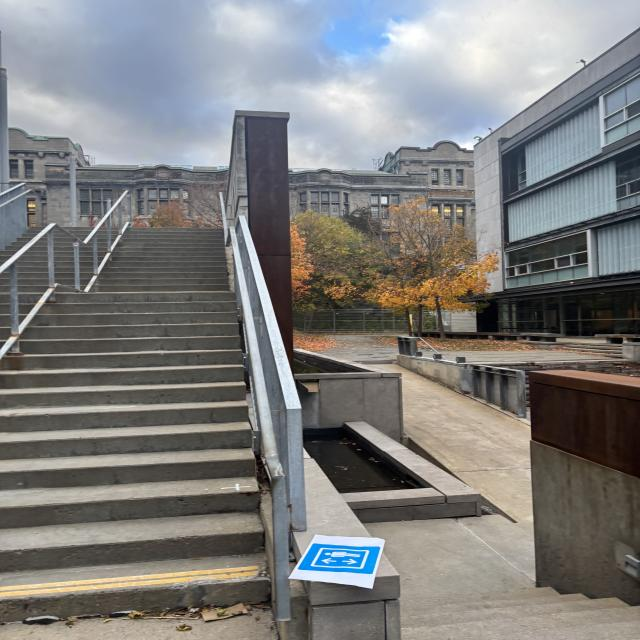elevator: (298, 544, 381, 575)
